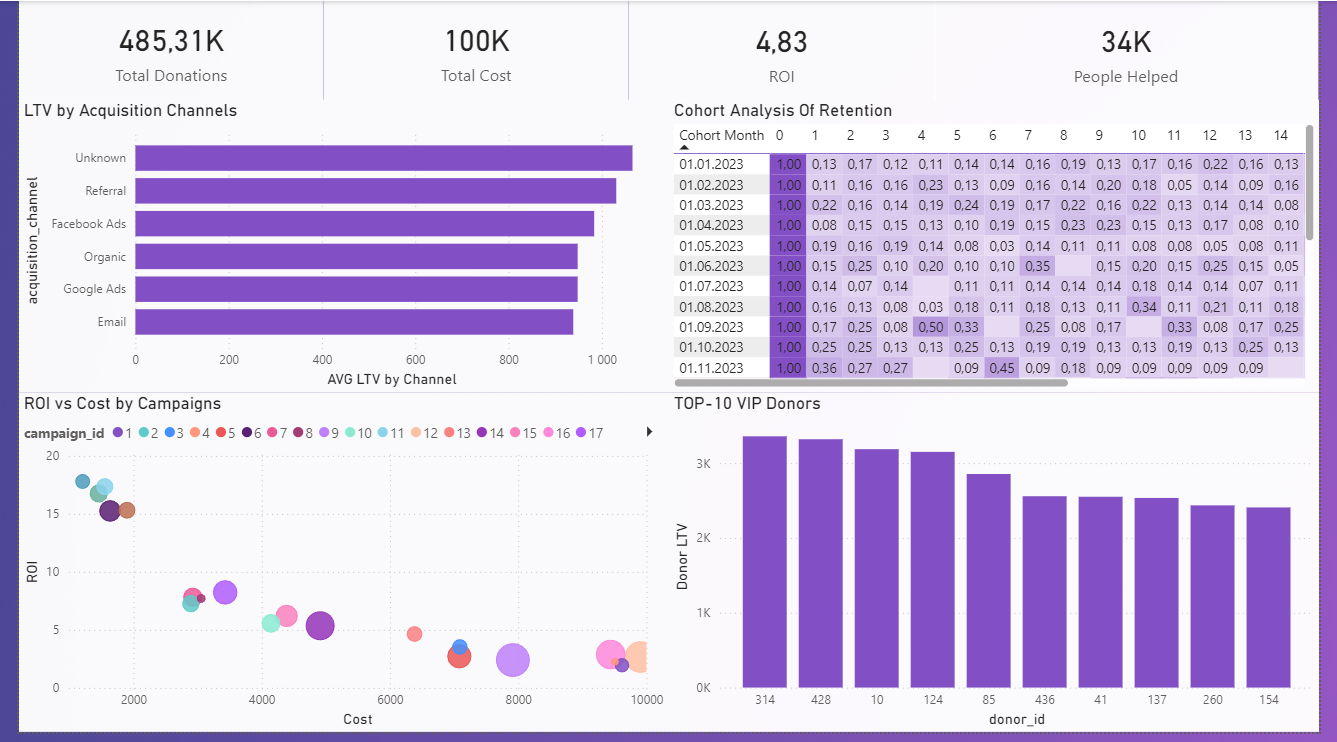

This screenshot's page, from the dashboard's own definition file:
{"tool":"powerbi","page":{"name":"Page 1","canvas":[1280,720],"ordinal":0},"visuals":[{"type":"card","fields":{"Values":["Meas.Total Donations"]},"box":[0,0,300.3,97.2],"z":0},{"type":"card","fields":{"Values":["Meas.Total Cost"]},"box":[300.3,0,300.3,97.2],"z":1000},{"type":"card","fields":{"Values":["Meas.ROI"]},"box":[600,0,301.2,97.5],"z":2000},{"type":"card","fields":{"Values":["Meas.People Helped"]},"box":[901.2,0,378.8,97.5],"z":3000},{"type":"clusteredBarChart","title":"LTV by Acquisition Channels","fields":{"Category":["donor_vis.acquisition_channel"],"Y":["Meas.AVG LTV by Channel"]},"box":[0,97.2,640,288],"z":4000},{"type":"scatterChart","title":"ROI vs Cost by Campaigns","fields":{"X":["Meas.Total Cost"],"Y":["Meas.ROI Campaign"],"Size":["Meas.People Helped"],"Series":["camp_vis.campaign_id"]},"box":[0,385.2,640,334.8],"z":6000},{"type":"clusteredColumnChart","title":"TOP-10 VIP Donors","fields":{"Category":["donat_vis.donor_id"],"Y":["Meas.Donor LTV"]},"box":[640,385.2,640,334.8],"z":7000},{"type":"pivotTable","title":"Cohort Analysis Of Retention","fields":{"Rows":["Donor Cohort Table.Cohort Month"],"Columns":["Donor Cohort Table.Period Number"],"Values":["Donor Cohort Table.Retention Cohort %1"]},"box":[640,97.2,640,288],"z":7001}]}

Visuals, with their boxes in screenshot pixels (x1, y1, x2, y2), scaled from the page's 1280x720 canvas onto the 1337x742 screenshot:
card - Meas.Total Donations: box(0, 0, 314, 100)
card - Meas.Total Cost: box(314, 0, 627, 100)
card - Meas.ROI: box(627, 0, 941, 100)
card - Meas.People Helped: box(941, 0, 1336, 100)
"LTV by Acquisition Channels" clusteredBarChart: box(0, 100, 668, 397)
"ROI vs Cost by Campaigns" scatterChart: box(0, 397, 668, 741)
"TOP-10 VIP Donors" clusteredColumnChart: box(668, 397, 1336, 741)
"Cohort Analysis Of Retention" pivotTable: box(668, 100, 1336, 397)
